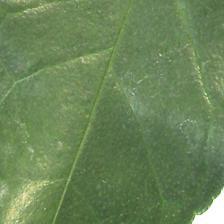healthy: (1, 0, 224, 224)
